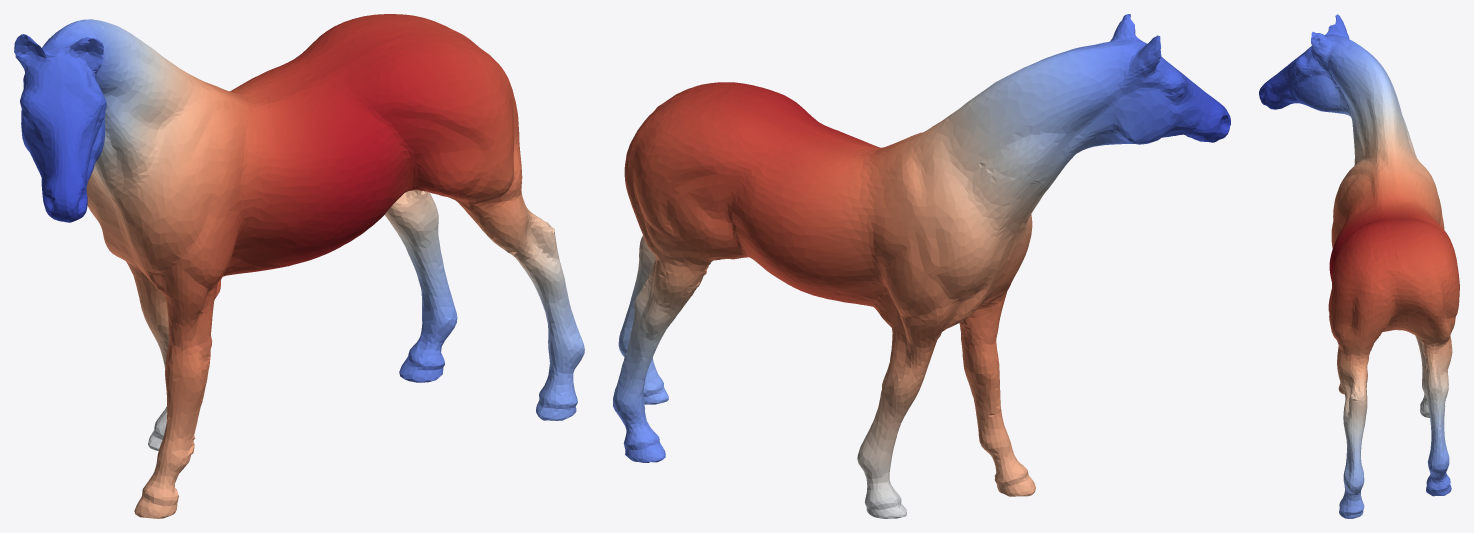
The model's file is gamma0.1.obj.
The picture shows the model from 3 angles, left to right: view 1: azimuth 30°, elevation 25°; view 2: azimuth 150°, elevation 25°; view 3: azimuth 270°, elevation 25°; orthographic projection. The views are drawn at different scales.
Bounding box in the file's own units: 0.1834 × 0.1529 × 0.084.
Materials: 1 (1 with a texture image).
